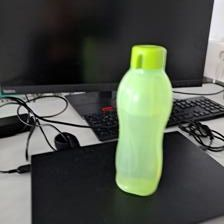bottle: (109, 42, 174, 200)
